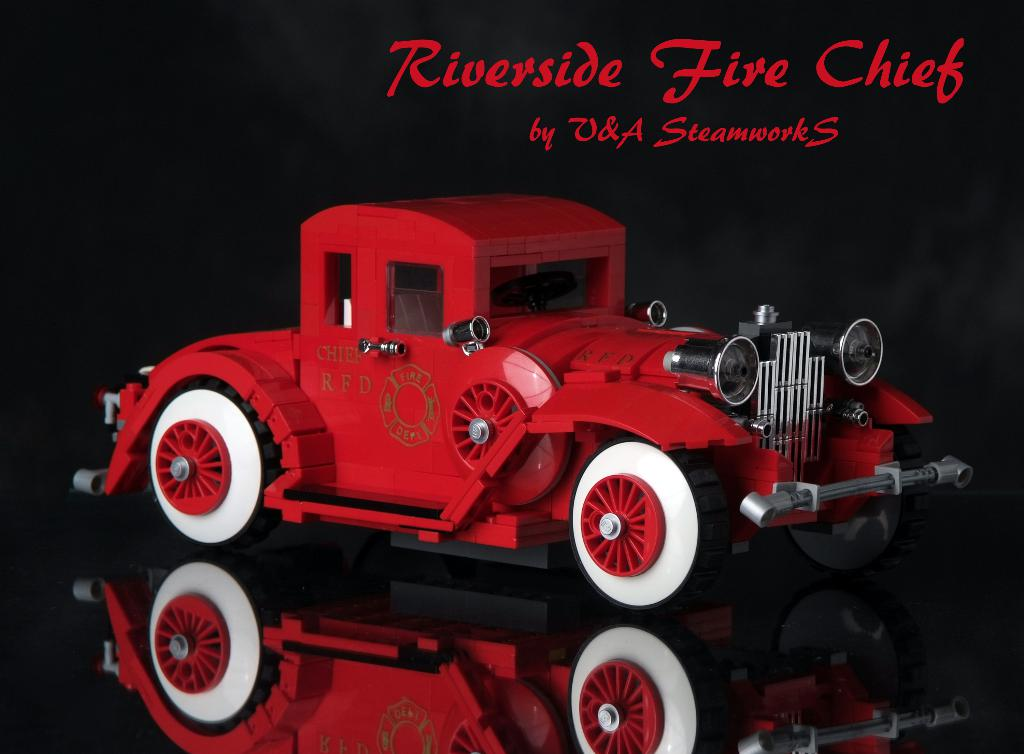cars: (70, 184, 980, 614)
